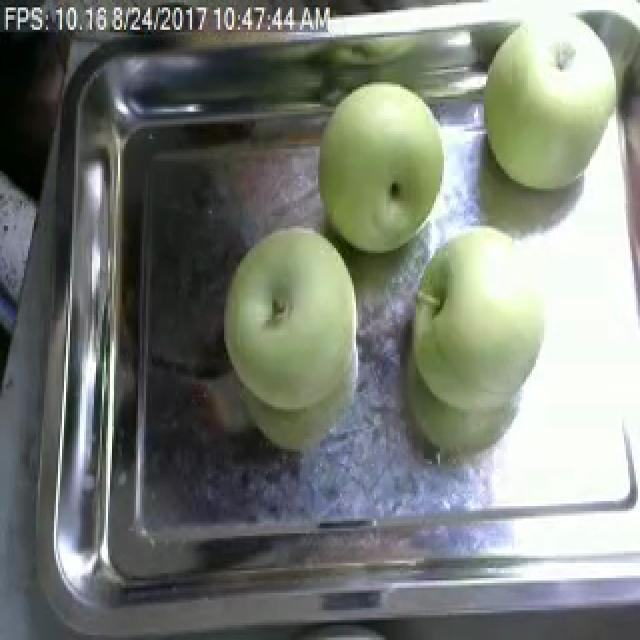50-_ripeness: (221, 230, 365, 412), (407, 237, 557, 400), (482, 28, 613, 196), (322, 87, 459, 245)
